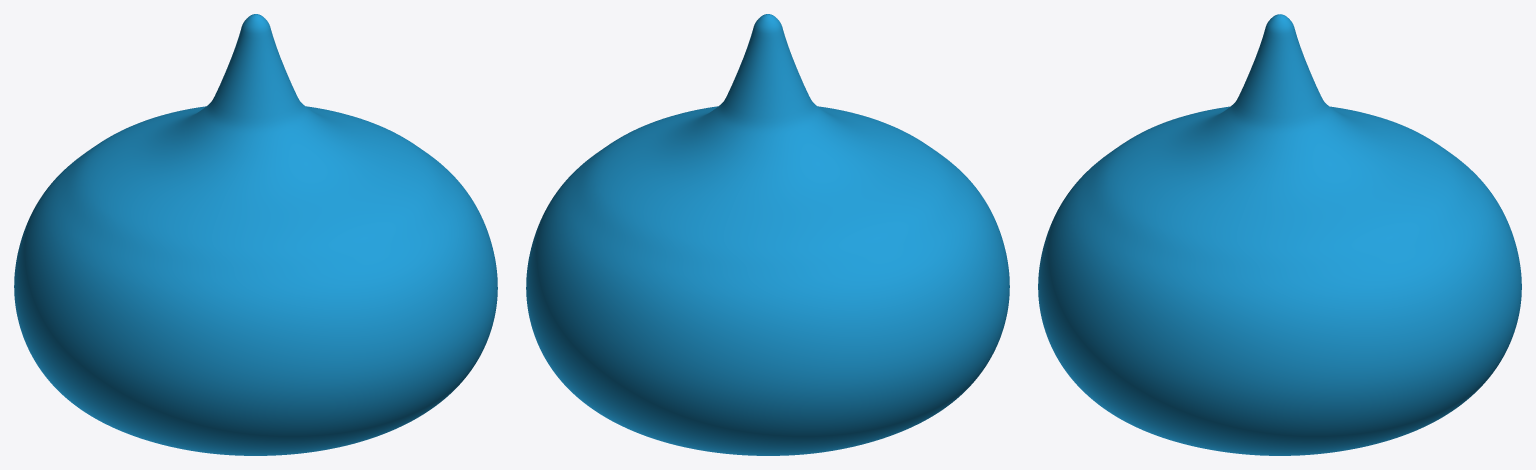
The model's file is slime_simple_uhigh.obj.
3 renders of one model, left to right at view 1: azimuth 30°, elevation 25°; view 2: azimuth 150°, elevation 25°; view 3: azimuth 270°, elevation 25°, orthographic.
Visible parts, largest first — view 1: slime; view 2: slime; view 3: slime.
Boxes of the visible parts, x1,y1,x2,y2 form: slime: [14, 14, 497, 455]; slime: [526, 14, 1009, 455]; slime: [1038, 14, 1521, 455].
Size of the model in its own units: 1.88 by 1.72 by 1.88.
